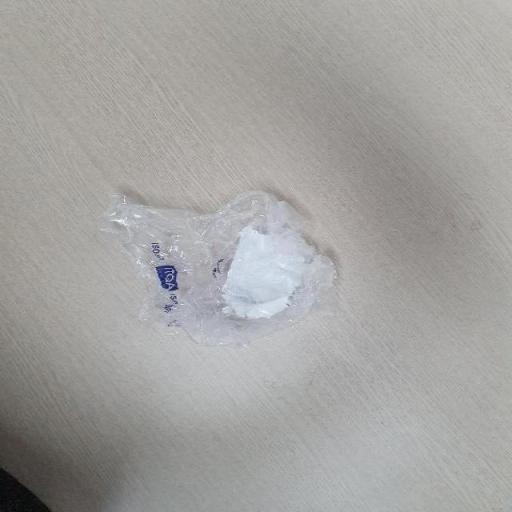plastic-bag: (95, 186, 342, 354)
